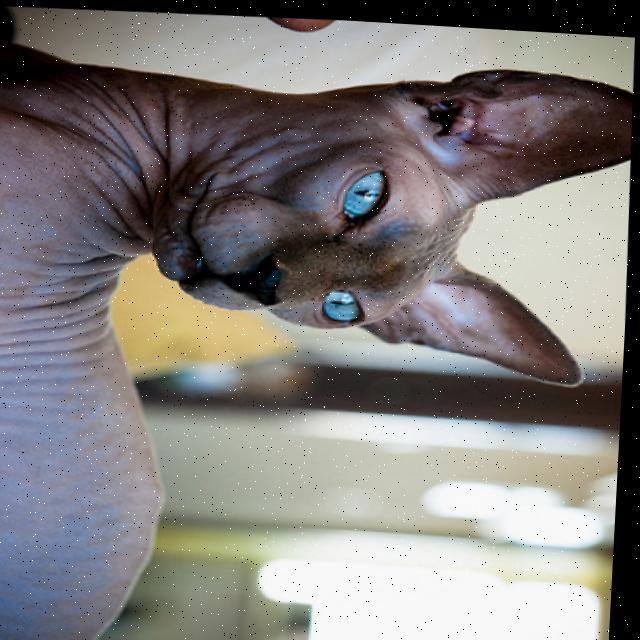Sphynx: (0, 32, 639, 640)
